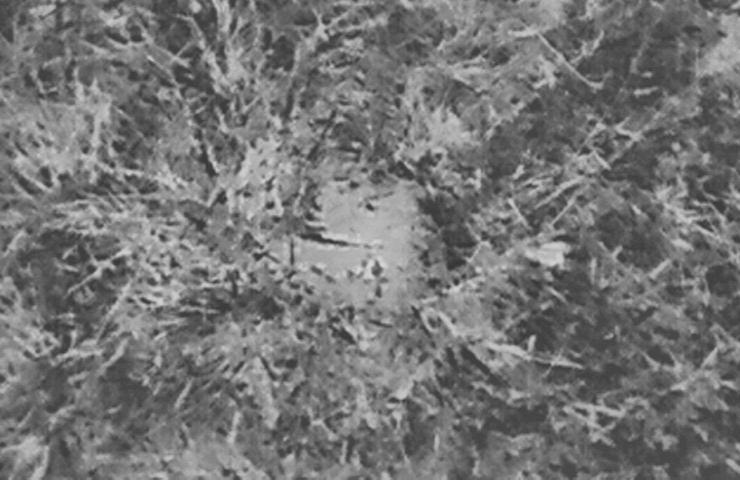landmines: (306, 165, 430, 303)
